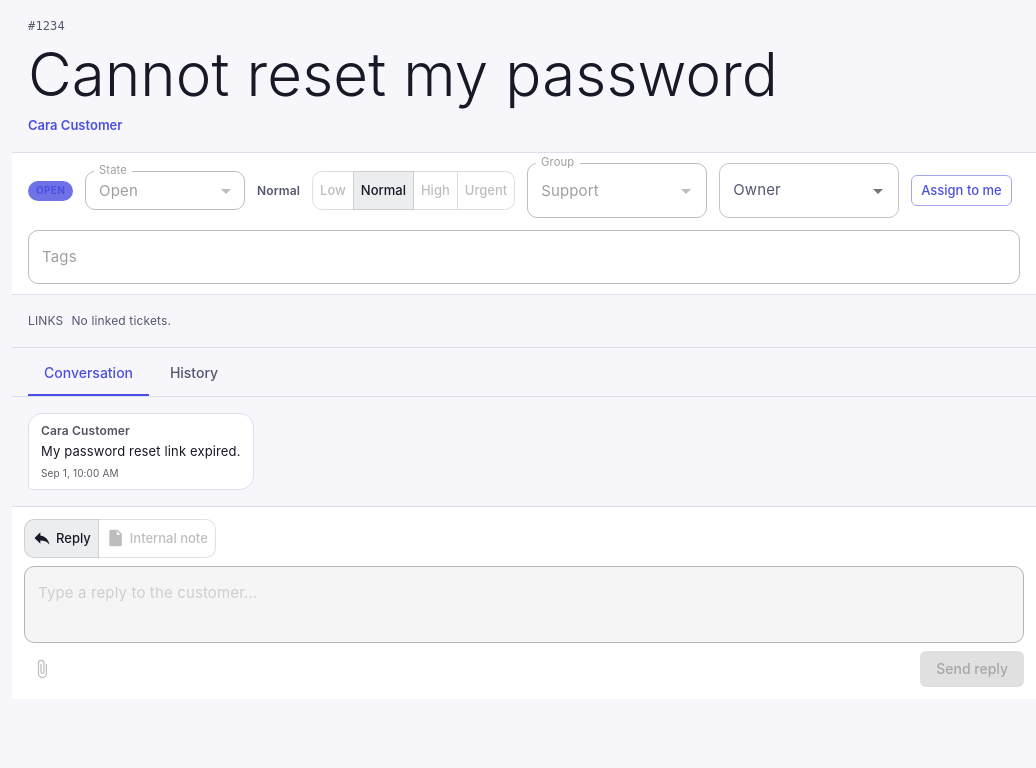
Test: TicketFocus › shows the mapped error as a toast when assigning to me is rejected (403)
Step 1. Click the button "Assign to me" → {"x": 961, "y": 191}, box [911,175,1012,206]
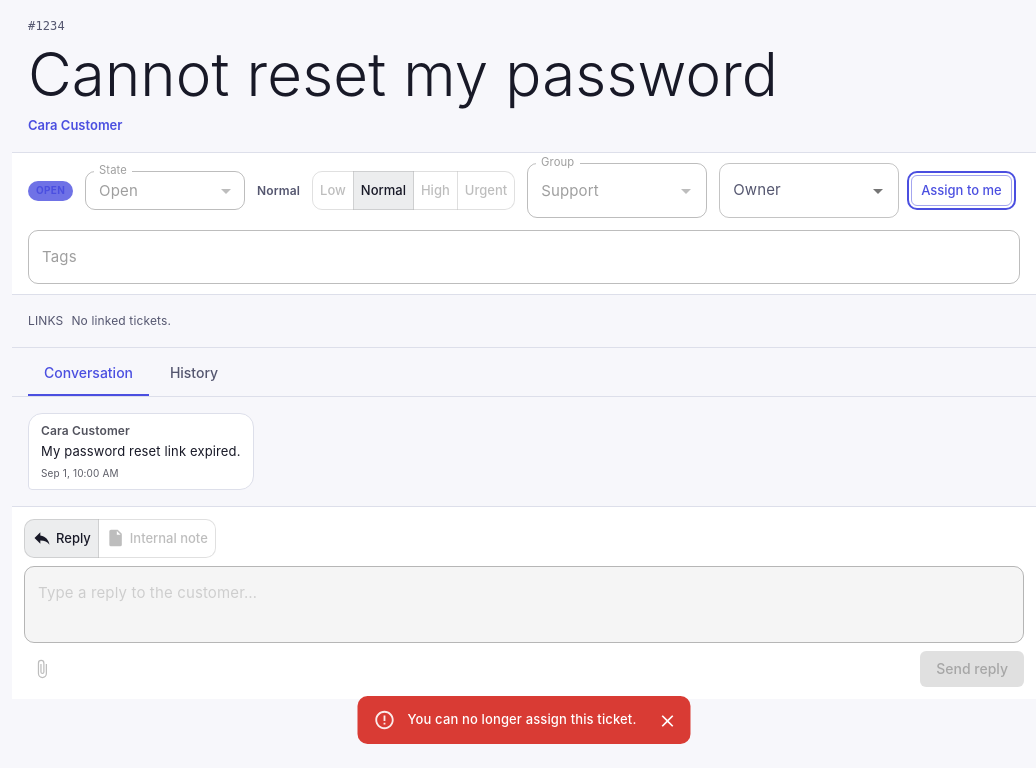
Now the 2nd text "You can no longer assign this ticket." is shown, box [408,711,636,727]
